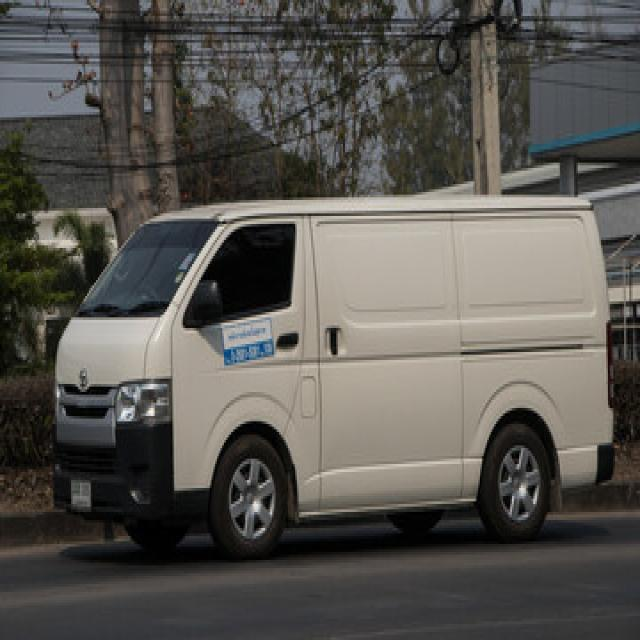van: (55, 195, 613, 555)
